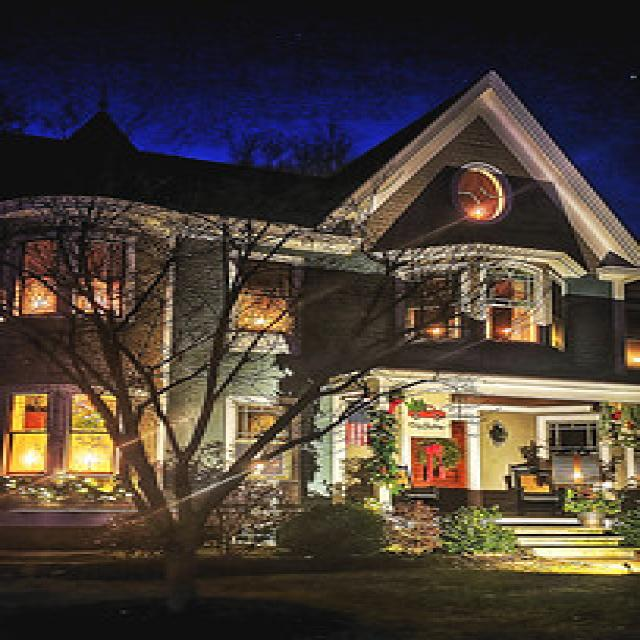Normal_building: (3, 65, 640, 583)
